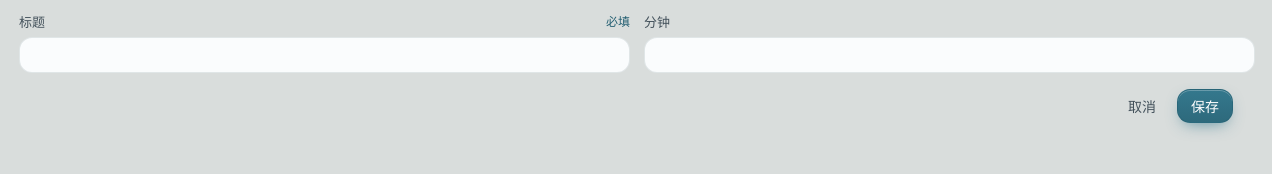
it: shared interaction components › validates required fields and converts numeric input before saving
Later steps or results of the test are not shown.
Click the button "保存" at [1205, 106], box [1177,89,1233,123]
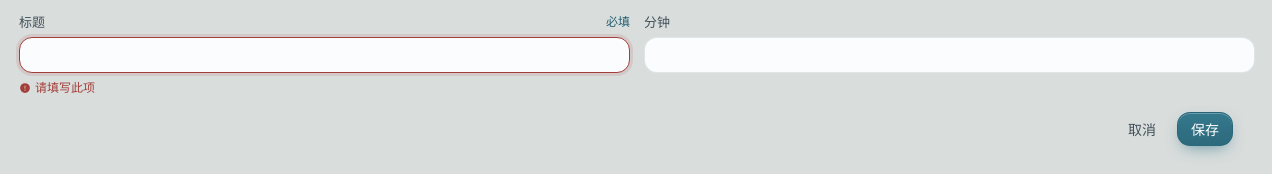
Expected: the text "请填写此项" is shown, [19,80,95,95]
